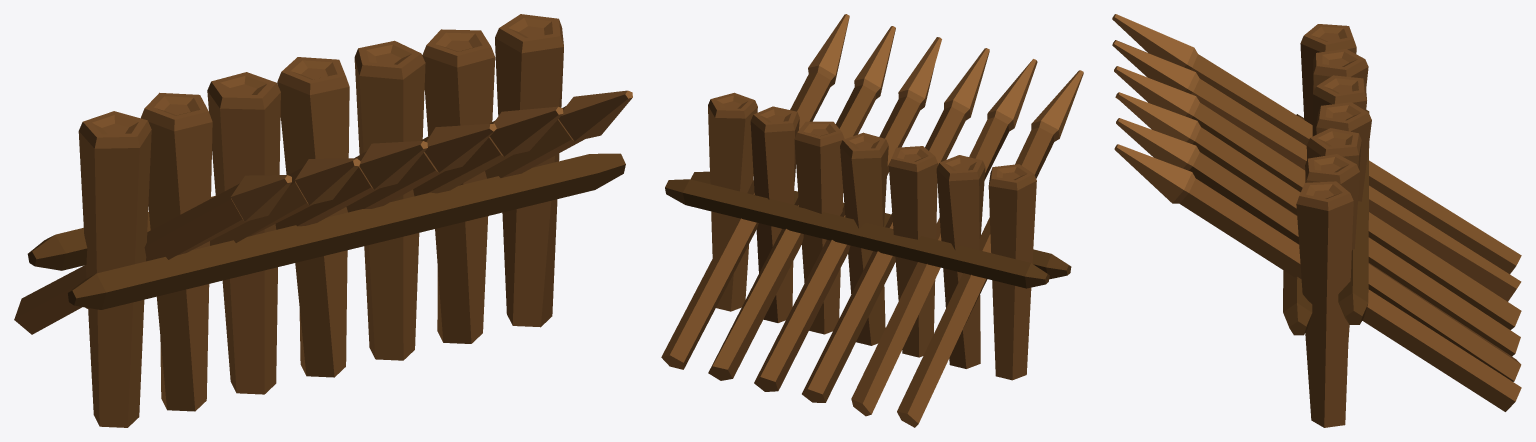
The model's file is G_Barricade.fbx.
3 views of the same model, side by side, from view 1: azimuth 30°, elevation 25°; view 2: azimuth 150°, elevation 25°; view 3: azimuth 270°, elevation 25° (orthographic). The views are drawn at different scales.
Parts seen in each view (by area): view 1: G_Barricade; view 2: G_Barricade; view 3: G_Barricade.
Part boxes in pixels (x1,y1,x2,y2): G_Barricade: (14, 14, 632, 427); G_Barricade: (661, 14, 1083, 427); G_Barricade: (1112, 14, 1521, 427).
Bounding box in the file's own units: 343 × 202 × 281.
